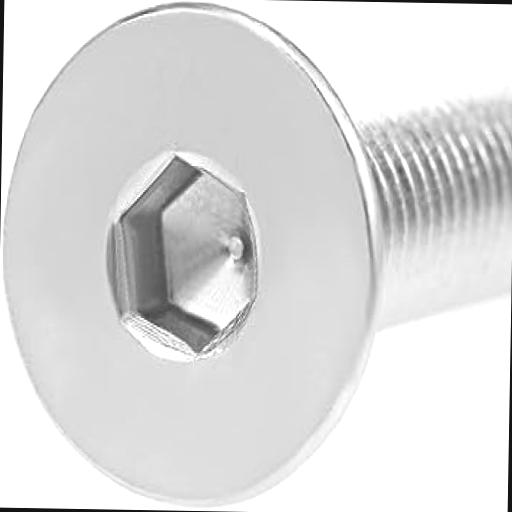Hex-Allen: (0, 0, 388, 509)
